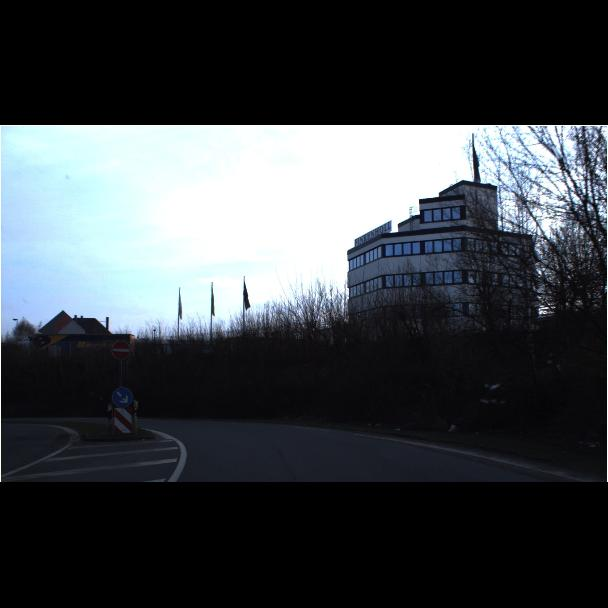keep right: (111, 340, 133, 408)
